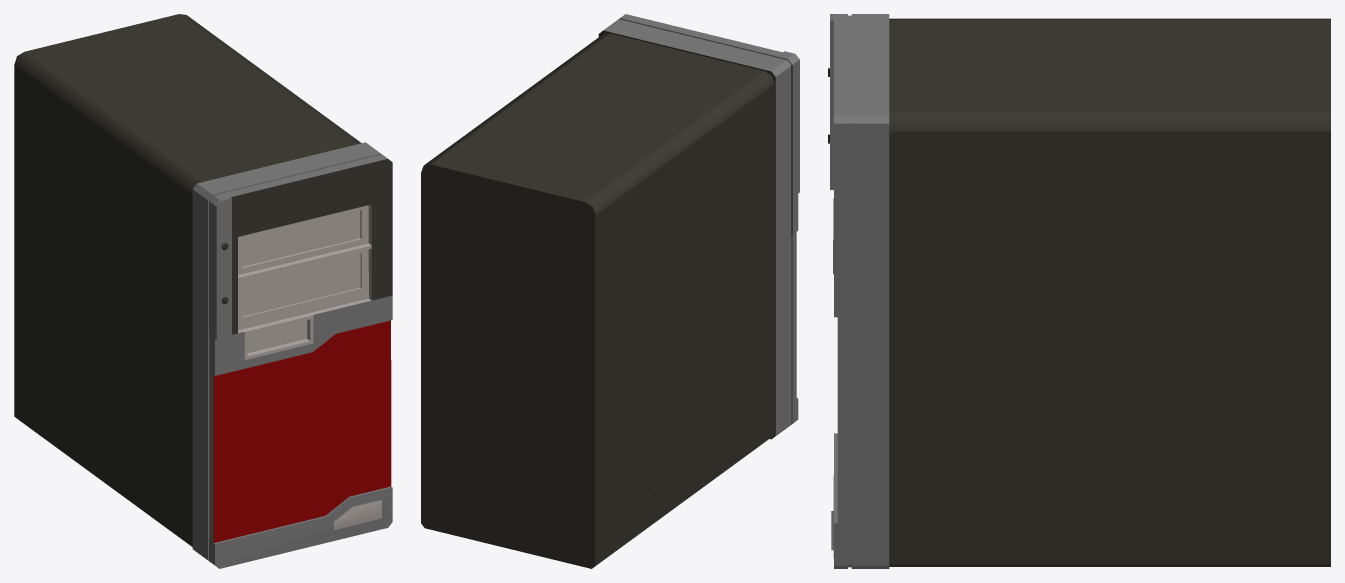
The model's file is workstation_tier10.fbx.
3 views of the same model, side by side, from view 1: azimuth 30°, elevation 25°; view 2: azimuth 150°, elevation 25°; view 3: azimuth 270°, elevation 25° (orthographic). The views are drawn at different scales.
Visible parts, largest first — view 1: Cube; view 2: Cube; view 3: Cube.
Part boxes in pixels (left/top/right/bottom): Cube: left=14, top=14, right=392, bottom=568; Cube: left=421, top=14, right=799, bottom=568; Cube: left=830, top=14, right=1330, bottom=568.
Bounding box in the file's own units: 0.4328 × 0.8598 × 0.8634.
